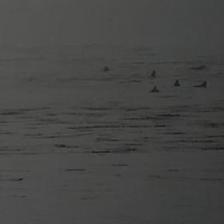surfer: (193, 80, 208, 88), (191, 64, 207, 70), (148, 86, 160, 93), (173, 79, 182, 88), (149, 70, 157, 77), (102, 66, 110, 72)
